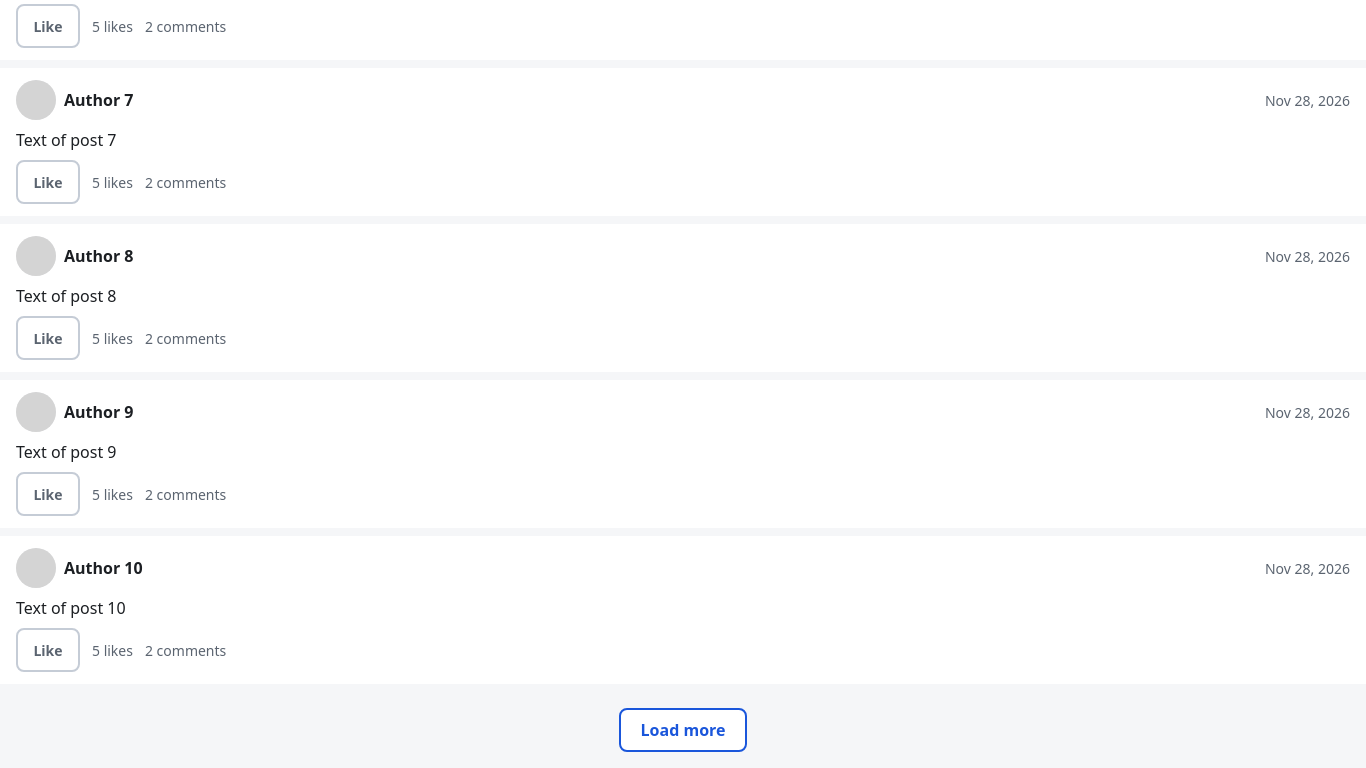
Feed: the memory limit › shows an error with Try again in the placeholder when its page cannot be fetched
The width and height of the screenshot is (1366, 768).
(page scrolled)
Click the button "Load more" at (683, 730), box [618, 708, 747, 752]
(page scrolled)
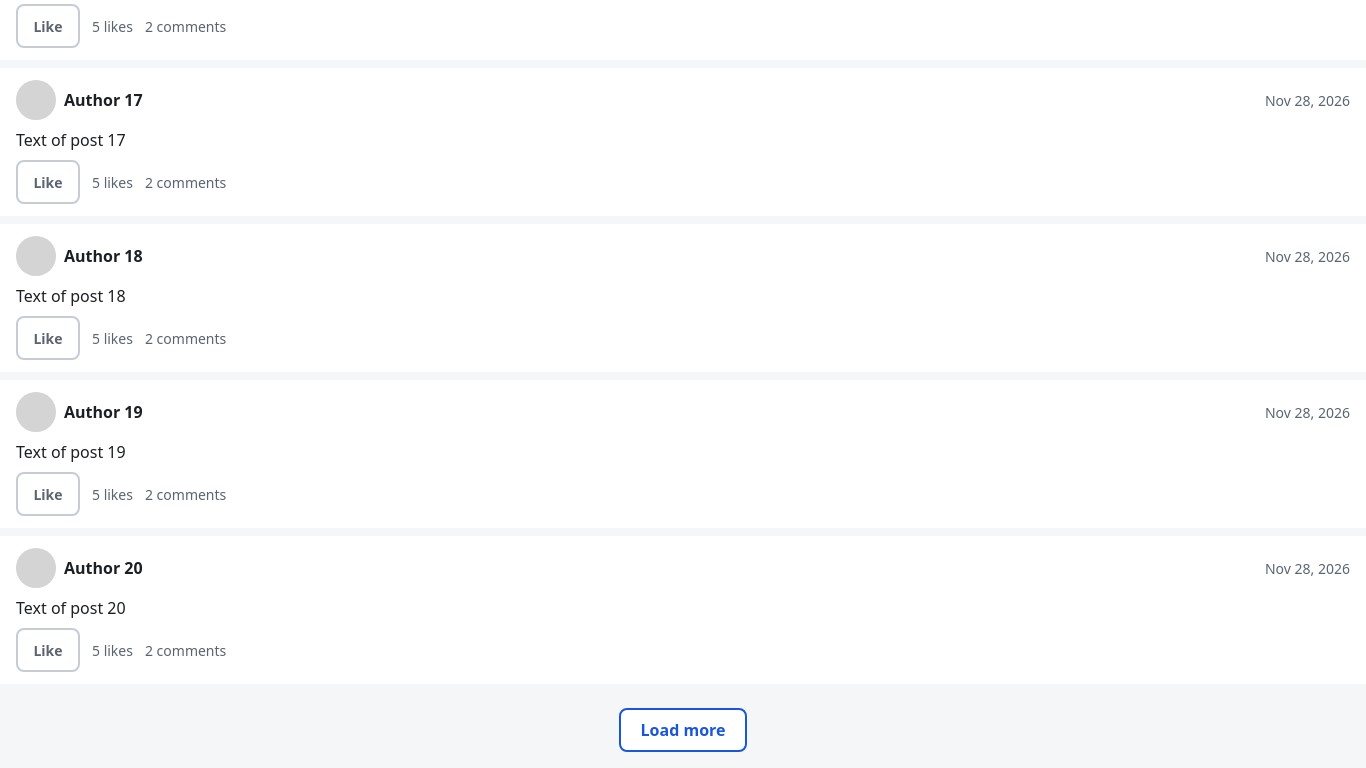
Click the button "Load more" at (683, 730), box [618, 708, 747, 752]
(page scrolled)
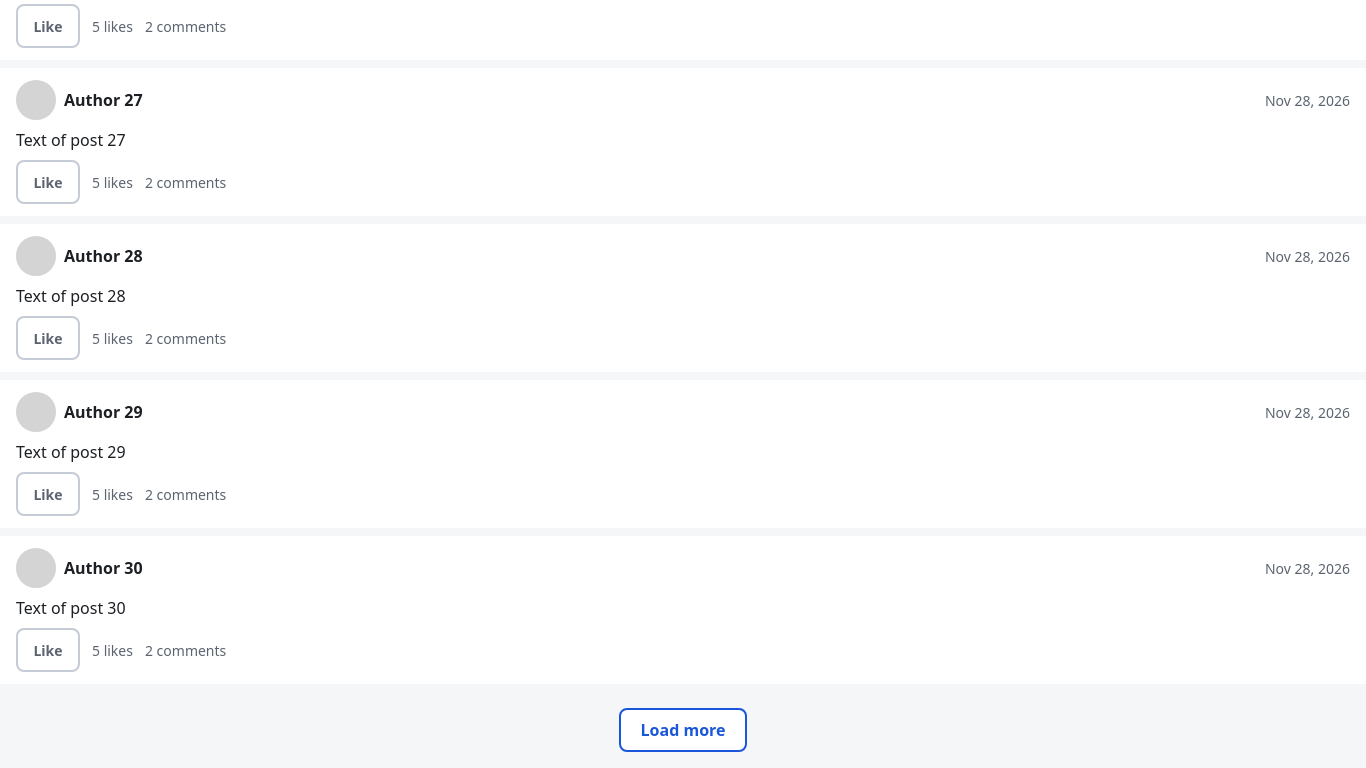
Click the button "Load more" at (683, 730), box [618, 708, 747, 752]
(page scrolled)
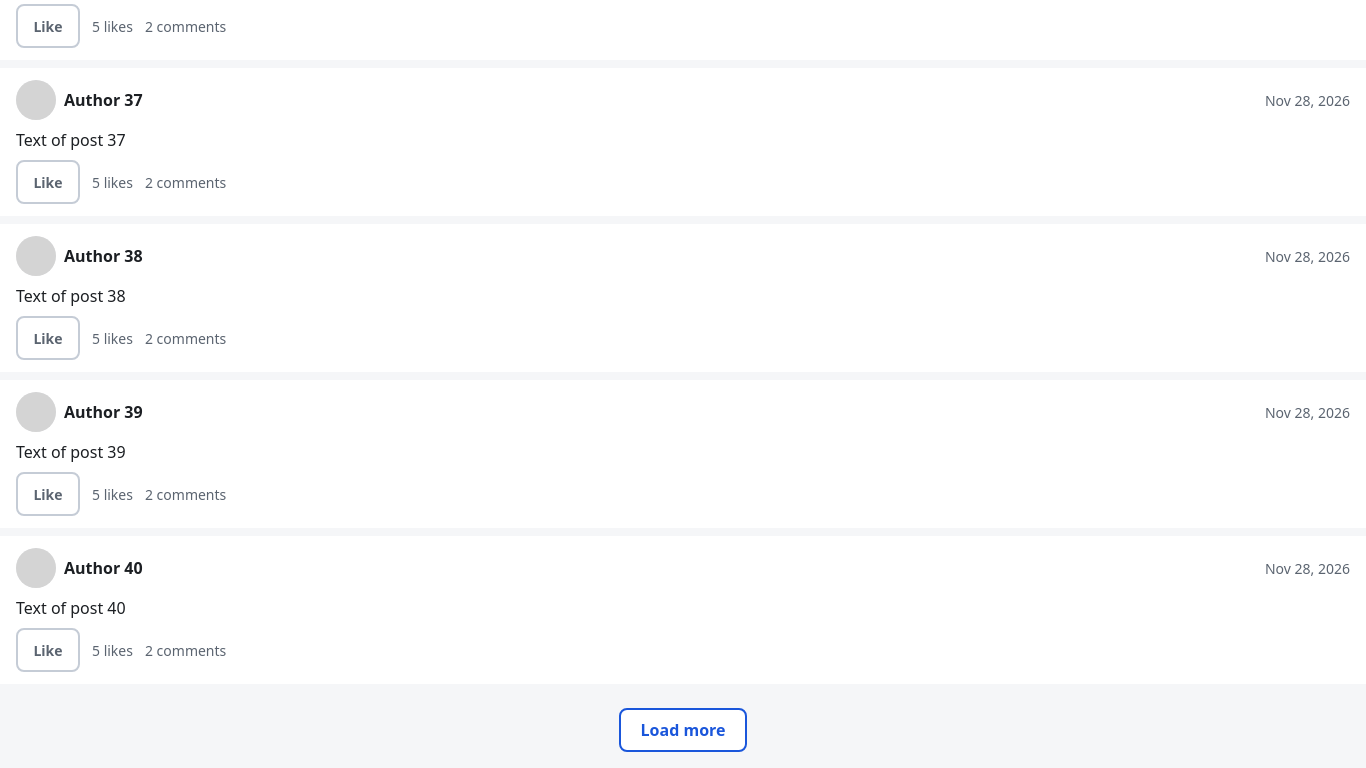
Click the button "Load more" at (683, 730), box [618, 708, 747, 752]
(page scrolled)
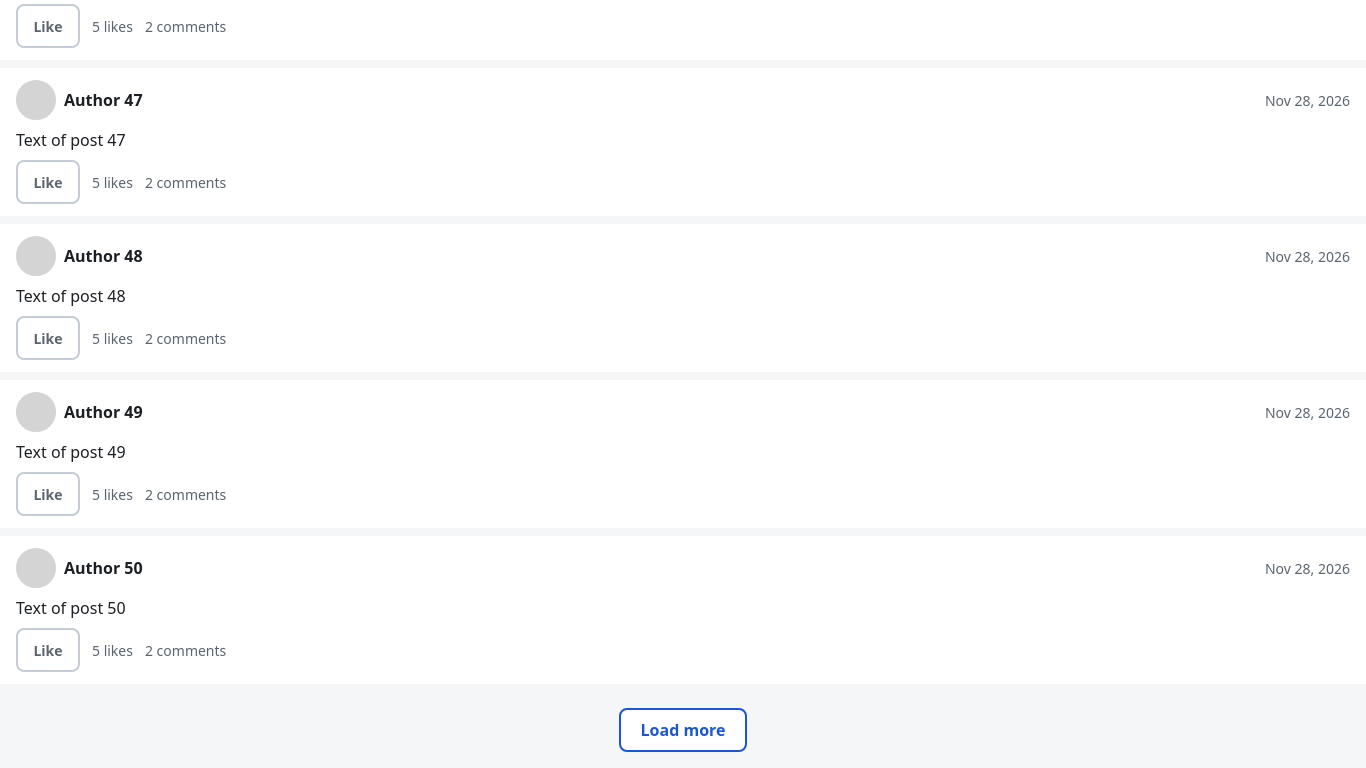
Click the button "Load more" at (683, 730), box [618, 708, 747, 752]
(page scrolled)
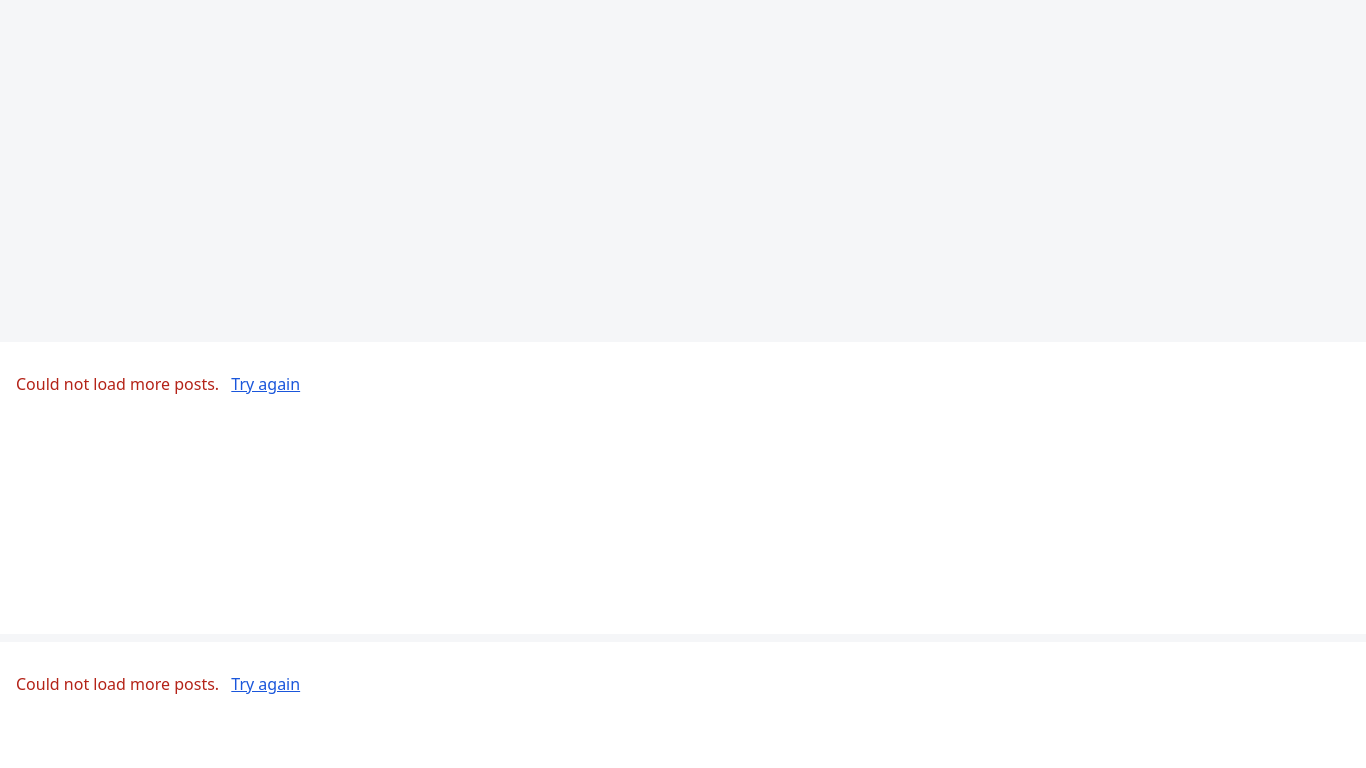
Click the 1st button "Try again" at (266, 384), box [223, 362, 308, 406]
(page scrolled)
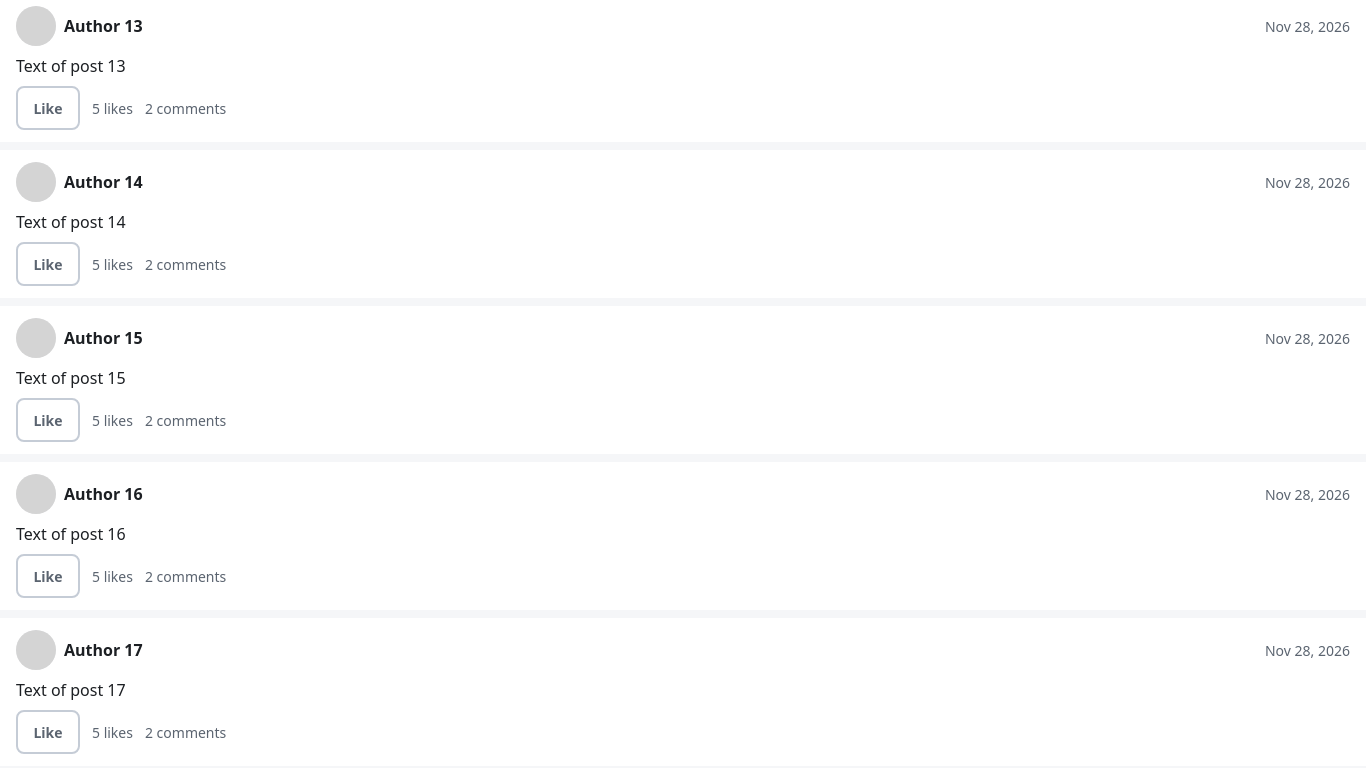
expect the element "Author 15" is shown: met, box [0, 306, 1365, 462]
